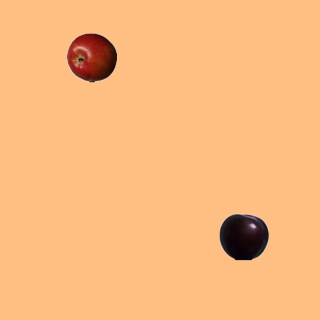Apple Braeburn: (66, 32, 116, 82)
Cherry Wax Black: (218, 211, 268, 261)
